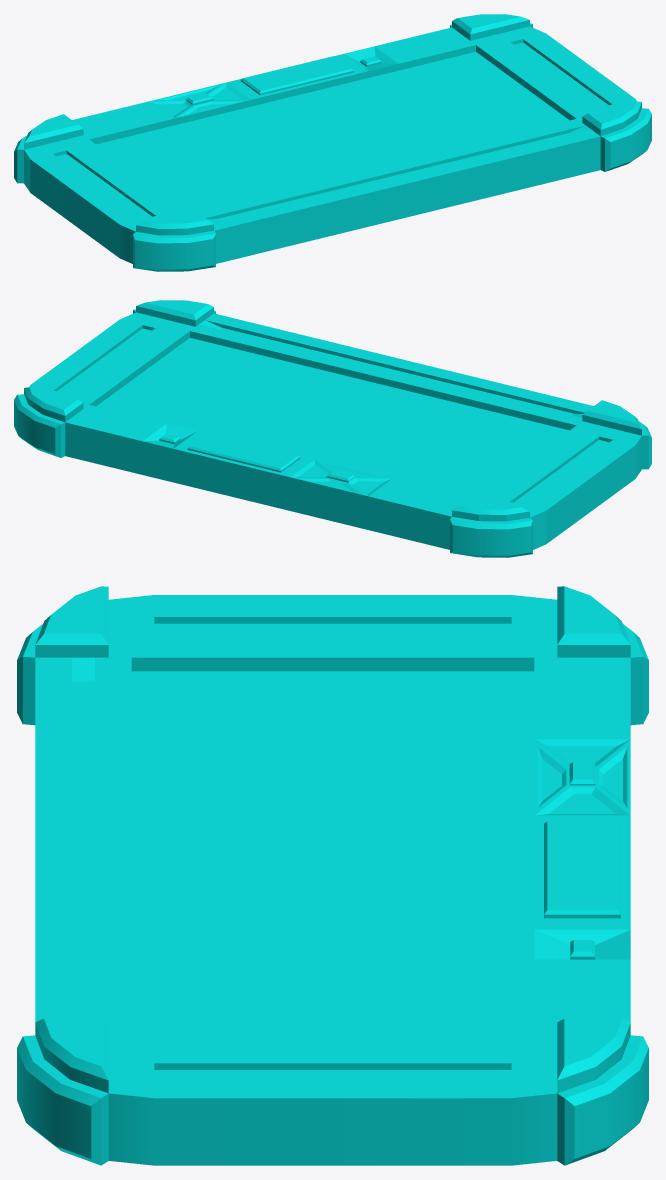
Rendered from AudioLog_V2.fbx.
The picture shows the model from 3 angles, top to bottom: view 1: azimuth 30°, elevation 25°; view 2: azimuth 150°, elevation 25°; view 3: azimuth 270°, elevation 25°; orthographic projection. The views are drawn at different scales.
Parts seen in each view (by area): view 1: AudioLog; view 2: AudioLog; view 3: AudioLog.
Boxes of the visible parts, left/top/right/bottom form: AudioLog: left=14, top=14, right=651, bottom=271; AudioLog: left=14, top=300, right=651, bottom=557; AudioLog: left=17, top=586, right=648, bottom=1165.
Bounding box in the file's own units: 0.4011 × 0.0325 × 0.2122.
